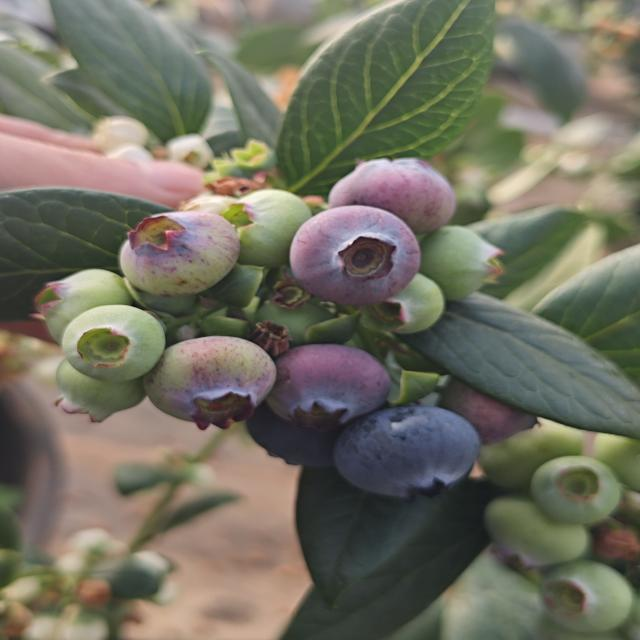ripe: (329, 398, 490, 502), (236, 385, 369, 475)
